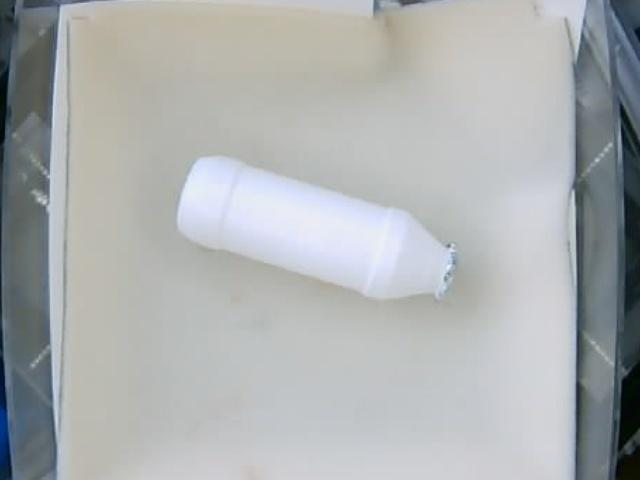Bottle: (177, 155, 457, 303)
